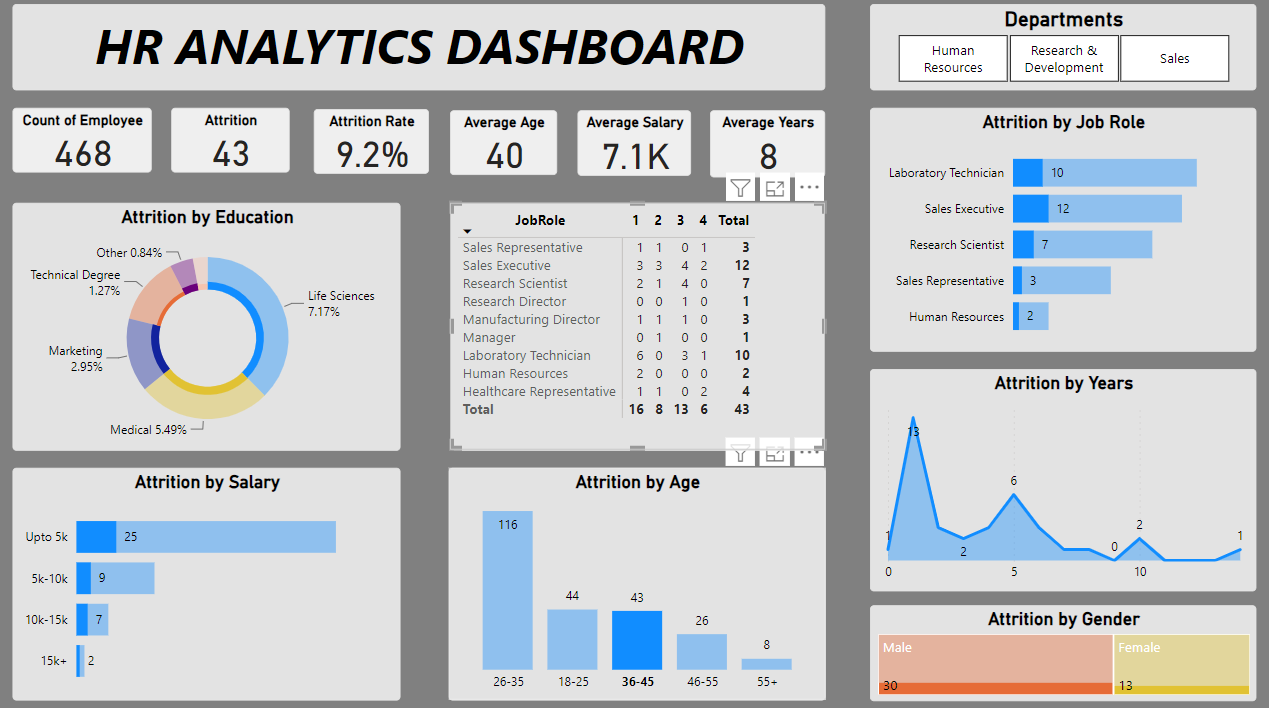

The page's visual inventory and layout, read from the dashboard file:
{"tool":"powerbi","page":{"name":"Page 1","canvas":[1280,720],"ordinal":0},"visuals":[{"type":"card","title":"Count of Employee","fields":{"Values":["CountNonNull(HR_Analytics.EmpID)"]},"box":[17,113.8,139.4,64.9],"z":0},{"type":"card","title":"Attrition","fields":{"Values":["Sum(HR_Analytics.AttritionCount)"]},"box":[176.6,113.8,118.1,64.9],"z":1000},{"type":"card","title":"Attrition Rate","fields":{"Values":["HR_Analytics.AttritionRate"]},"box":[319.1,114.9,114.9,64.9],"z":2000},{"type":"card","title":"Average Age ","fields":{"Values":["Avg(HR_Analytics.Age)"]},"box":[455.3,116,107.4,64.9],"z":3000},{"type":"card","title":"Average Salary","fields":{"Values":["Avg(HR_Analytics.MonthlyIncome)"]},"box":[583,116,113.8,66],"z":4000},{"type":"card","title":"Average Years ","fields":{"Values":["Avg(HR_Analytics.YearsAtCompany)"]},"box":[714.9,116,114.9,67],"z":5000},{"type":"donutChart","title":"Attrition by Education","fields":{"Category":["HR_Analytics.EducationField"],"Y":["Sum(HR_Analytics.AttritionCount)"]},"box":[17,208.5,388.3,247.9],"z":6000},{"type":"columnChart","title":"Attrition by Age","fields":{"Category":["HR_Analytics.AgeGroup"],"Y":["Sum(HR_Analytics.AttritionCount)"]},"box":[453.2,473.4,376.6,233],"z":7000},{"type":"pivotTable","fields":{"Rows":["HR_Analytics.JobRole"],"Columns":["HR_Analytics.JobSatisfaction"],"Values":["Sum(HR_Analytics.AttritionCount)"]},"box":[455.3,208.5,374.5,247.9],"z":8000},{"type":"barChart","title":"Attrition by Salary","fields":{"Category":["HR_Analytics.SalarySlab"],"Y":["Sum(HR_Analytics.AttritionCount)"]},"box":[17,473.4,388.3,233],"z":9000},{"type":"barChart","title":"Attrition by Job Role","fields":{"Category":["HR_Analytics.JobRole"],"Y":["Sum(HR_Analytics.AttritionCount)"]},"box":[875.5,113.8,386.2,243.6],"z":10000},{"type":"areaChart","title":"Attrition by Years","fields":{"Category":["HR_Analytics.YearsAtCompany"],"Y":["Sum(HR_Analytics.AttritionCount)"]},"box":[875,375,386.2,222.5],"z":11000},{"type":"treemap","title":"Attrition by Gender","fields":{"Group":["HR_Analytics.Gender"],"Values":["Sum(HR_Analytics.AttritionCount)"]},"box":[875.5,610.6,386.2,95.7],"z":12000},{"type":"slicer","title":"Departments","fields":{"Values":["HR_Analytics.Department"]},"box":[875.5,9.6,386.2,86.2],"z":13000},{"type":"textbox","box":[17,9.6,812.8,86.2],"z":14000}]}

Visuals, with their boxes in screenshot pixels (x1, y1, x2, y2), scaled from the page's 1280x720 canvas onto the 1269x708 screenshot:
"Count of Employee" card: {"left": 17, "top": 112, "right": 155, "bottom": 176}
"Attrition" card: {"left": 175, "top": 112, "right": 292, "bottom": 176}
"Attrition Rate" card: {"left": 316, "top": 113, "right": 430, "bottom": 177}
"Average Age " card: {"left": 451, "top": 114, "right": 558, "bottom": 178}
"Average Salary" card: {"left": 578, "top": 114, "right": 691, "bottom": 179}
"Average Years " card: {"left": 709, "top": 114, "right": 823, "bottom": 180}
"Attrition by Education" donutChart: {"left": 17, "top": 205, "right": 402, "bottom": 449}
"Attrition by Age" columnChart: {"left": 449, "top": 466, "right": 823, "bottom": 695}
pivotTable - HR_Analytics.JobRole x HR_Analytics.JobSatisfaction: {"left": 451, "top": 205, "right": 823, "bottom": 449}
"Attrition by Salary" barChart: {"left": 17, "top": 466, "right": 402, "bottom": 695}
"Attrition by Job Role" barChart: {"left": 868, "top": 112, "right": 1251, "bottom": 351}
"Attrition by Years" areaChart: {"left": 867, "top": 369, "right": 1250, "bottom": 588}
"Attrition by Gender" treemap: {"left": 868, "top": 600, "right": 1251, "bottom": 695}
"Departments" slicer: {"left": 868, "top": 9, "right": 1251, "bottom": 94}
textbox: {"left": 17, "top": 9, "right": 823, "bottom": 94}
